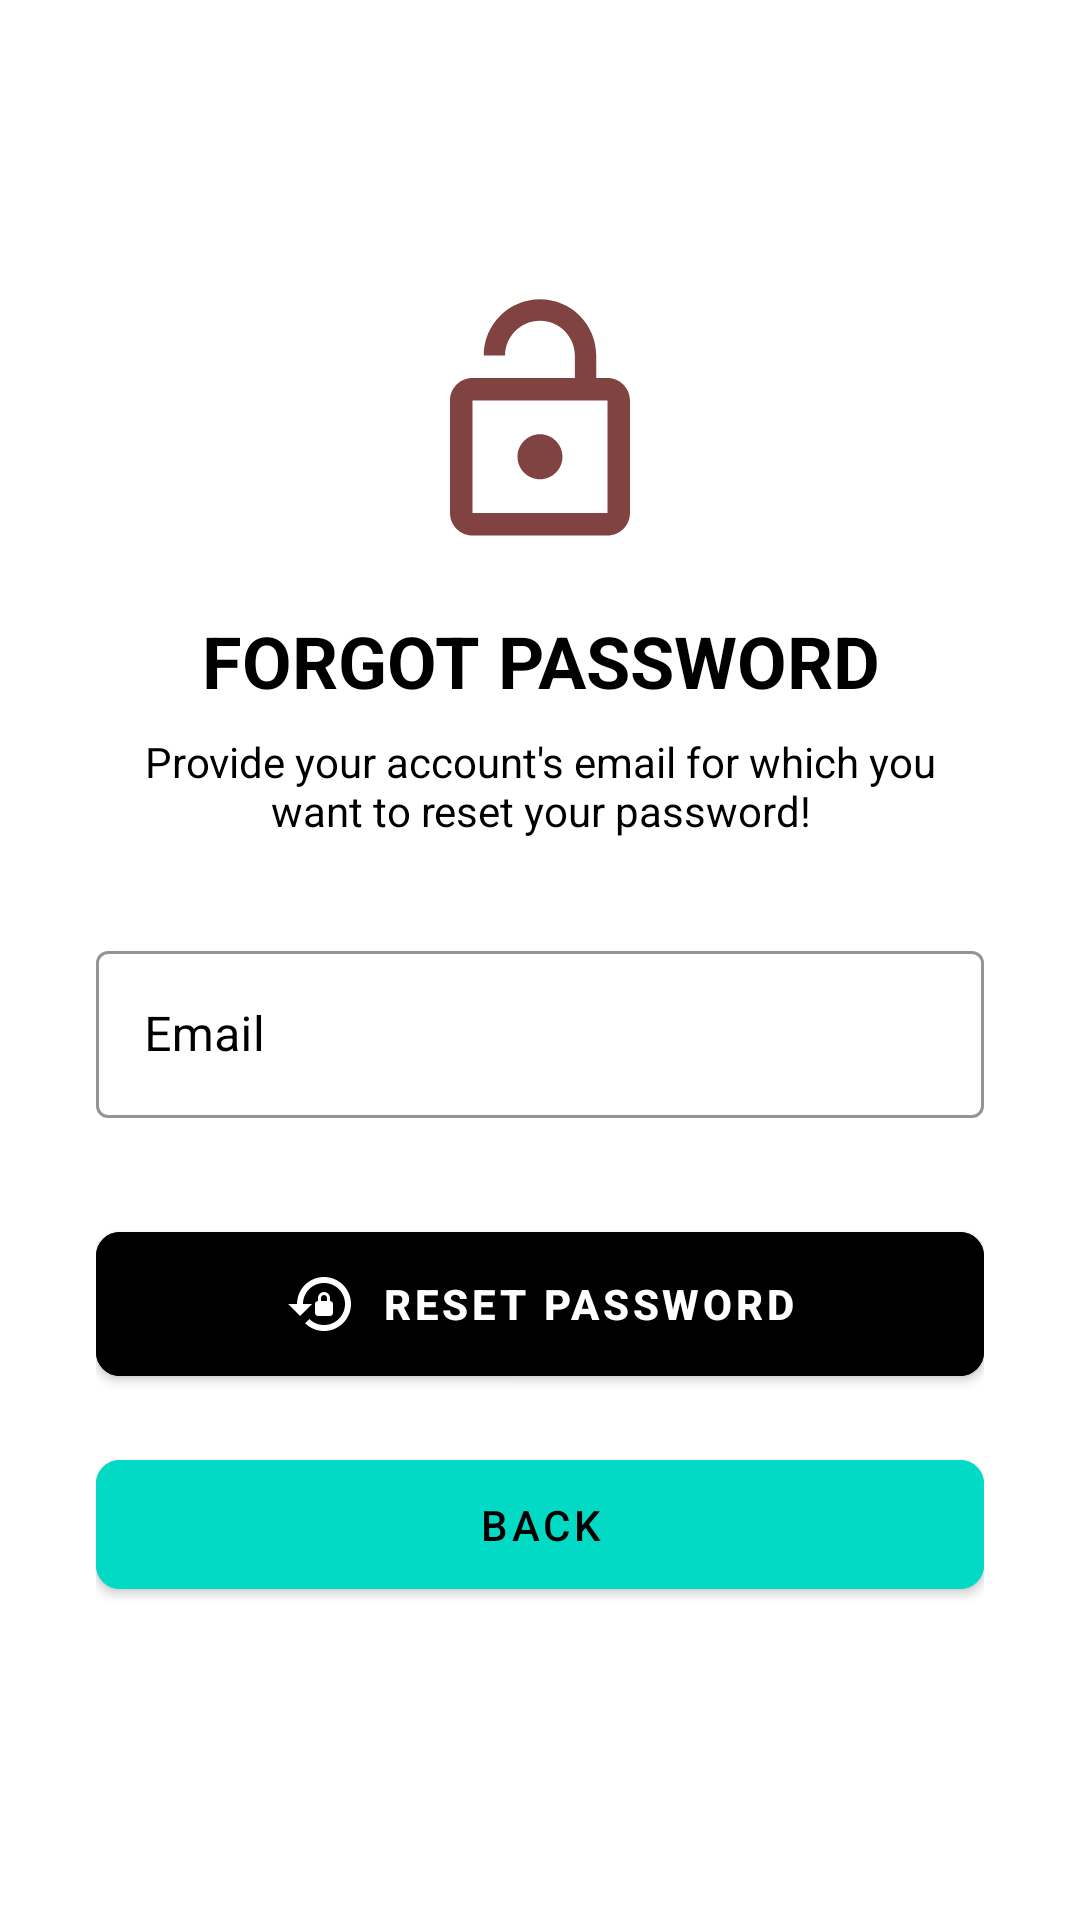

Locate icon controls on the screen. Image size 1080*1920, boxes as (x1, y1, x2, y2).
lock: (450, 299, 630, 536)
